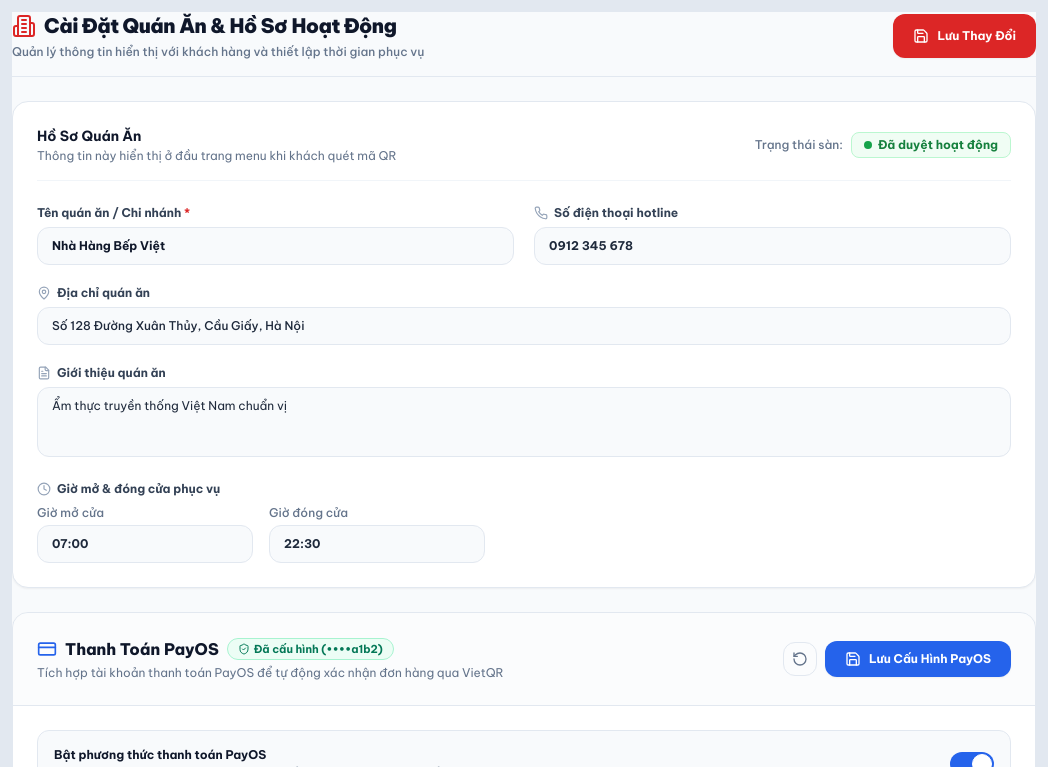
Test: Story A3: ShopManage Component (mockup a11) › edits address, phone, and closeTime and submits form to saveOrUpdateShop API (A-7)
The image size is (1048, 767).
Replace the text in the field with test id "shop-position-input" with "Số 99 Phố Cầu Giấy, Hà Nội". click: (524, 326)
box: [37, 307, 1011, 345]
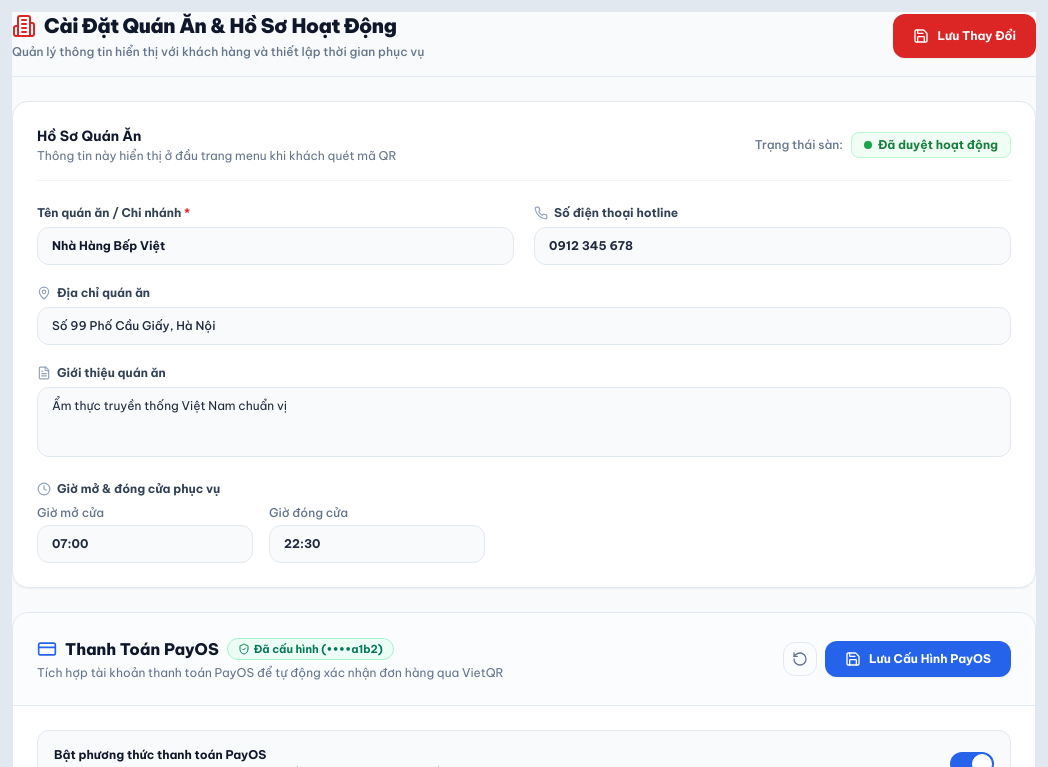
Replace the text in the field with test id "shop-phone-input" with "0988776655". click: (772, 246)
box: [534, 227, 1011, 265]
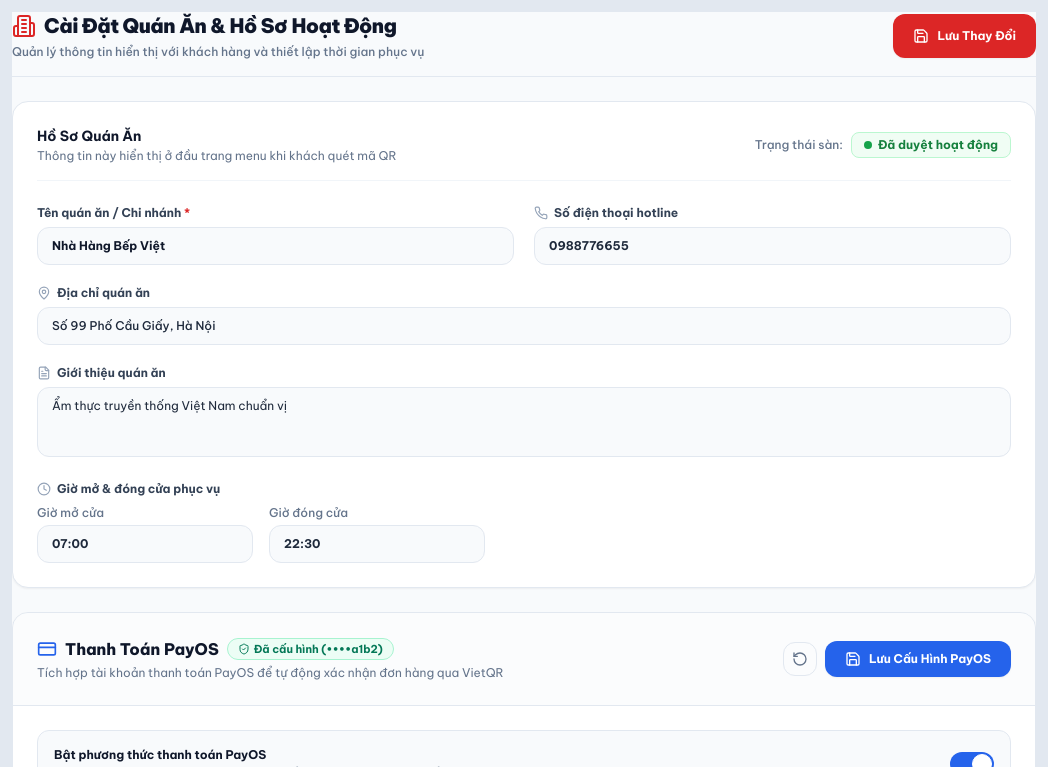
Type "23:00" into the field with test id "shop-close-time-input". click: (377, 544)
box: [269, 525, 485, 563]
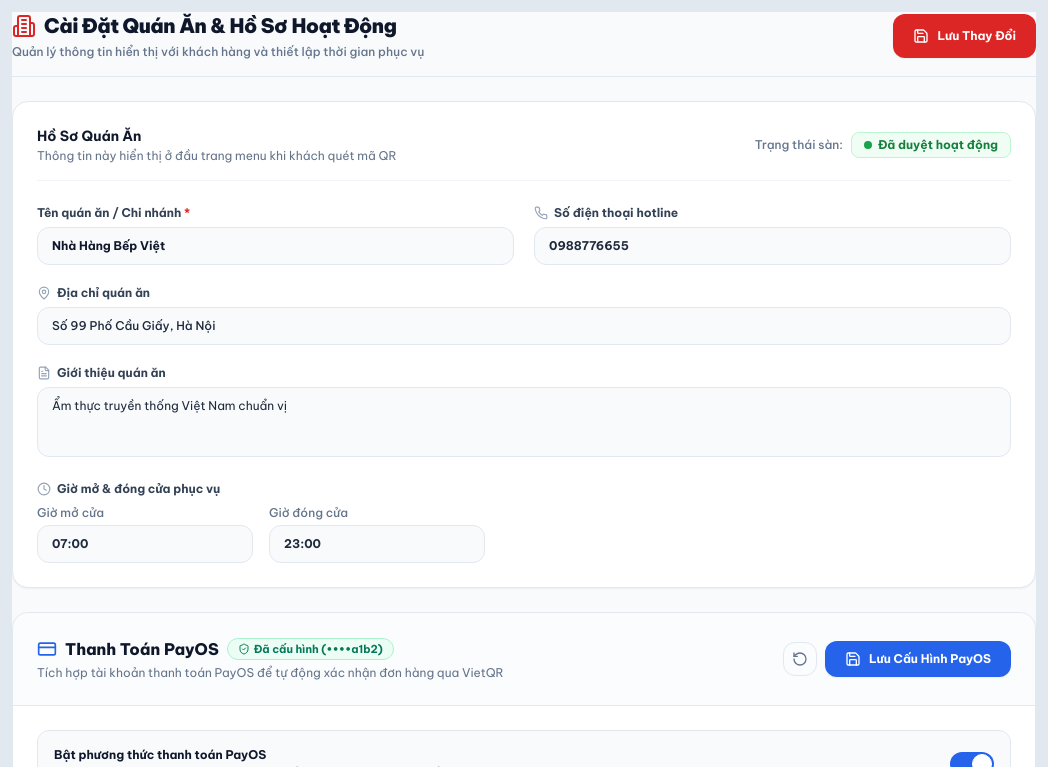
Click the button with test id "save-shop-btn". click: (965, 36)
box: [893, 14, 1036, 58]
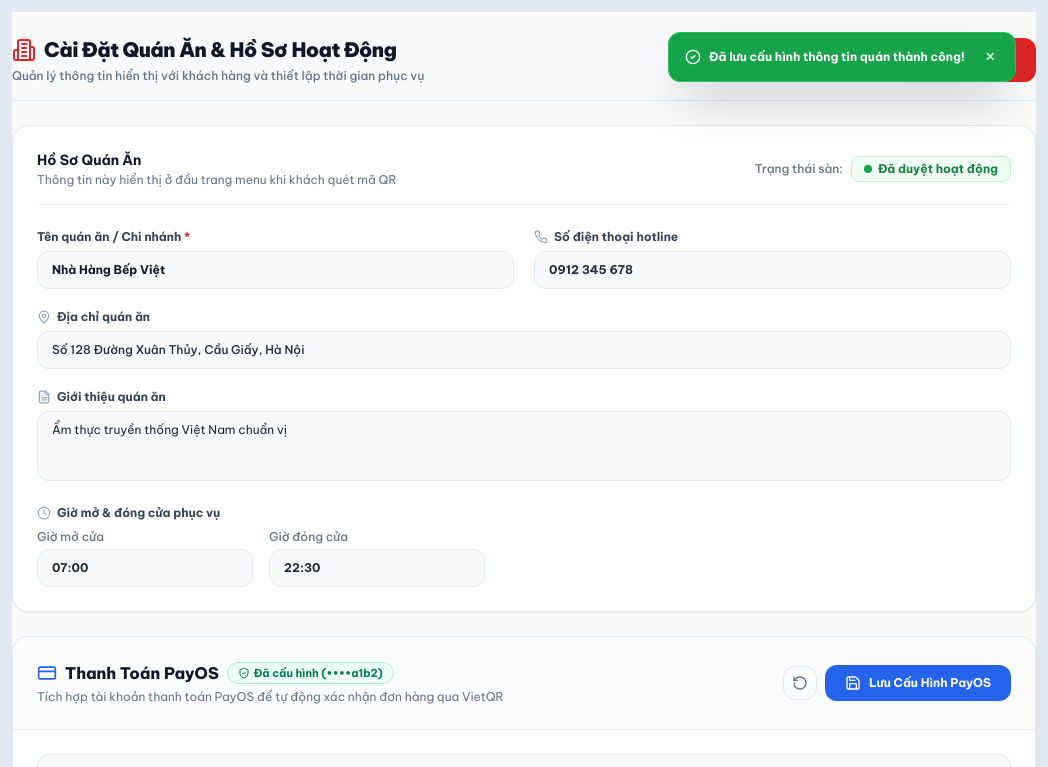
Expected: the text "Đã lưu cấu hình thông tin quán thành công!" is shown, [709, 49, 965, 65]
